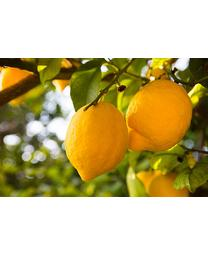lemon: (126, 79, 193, 154), (66, 104, 128, 181)
